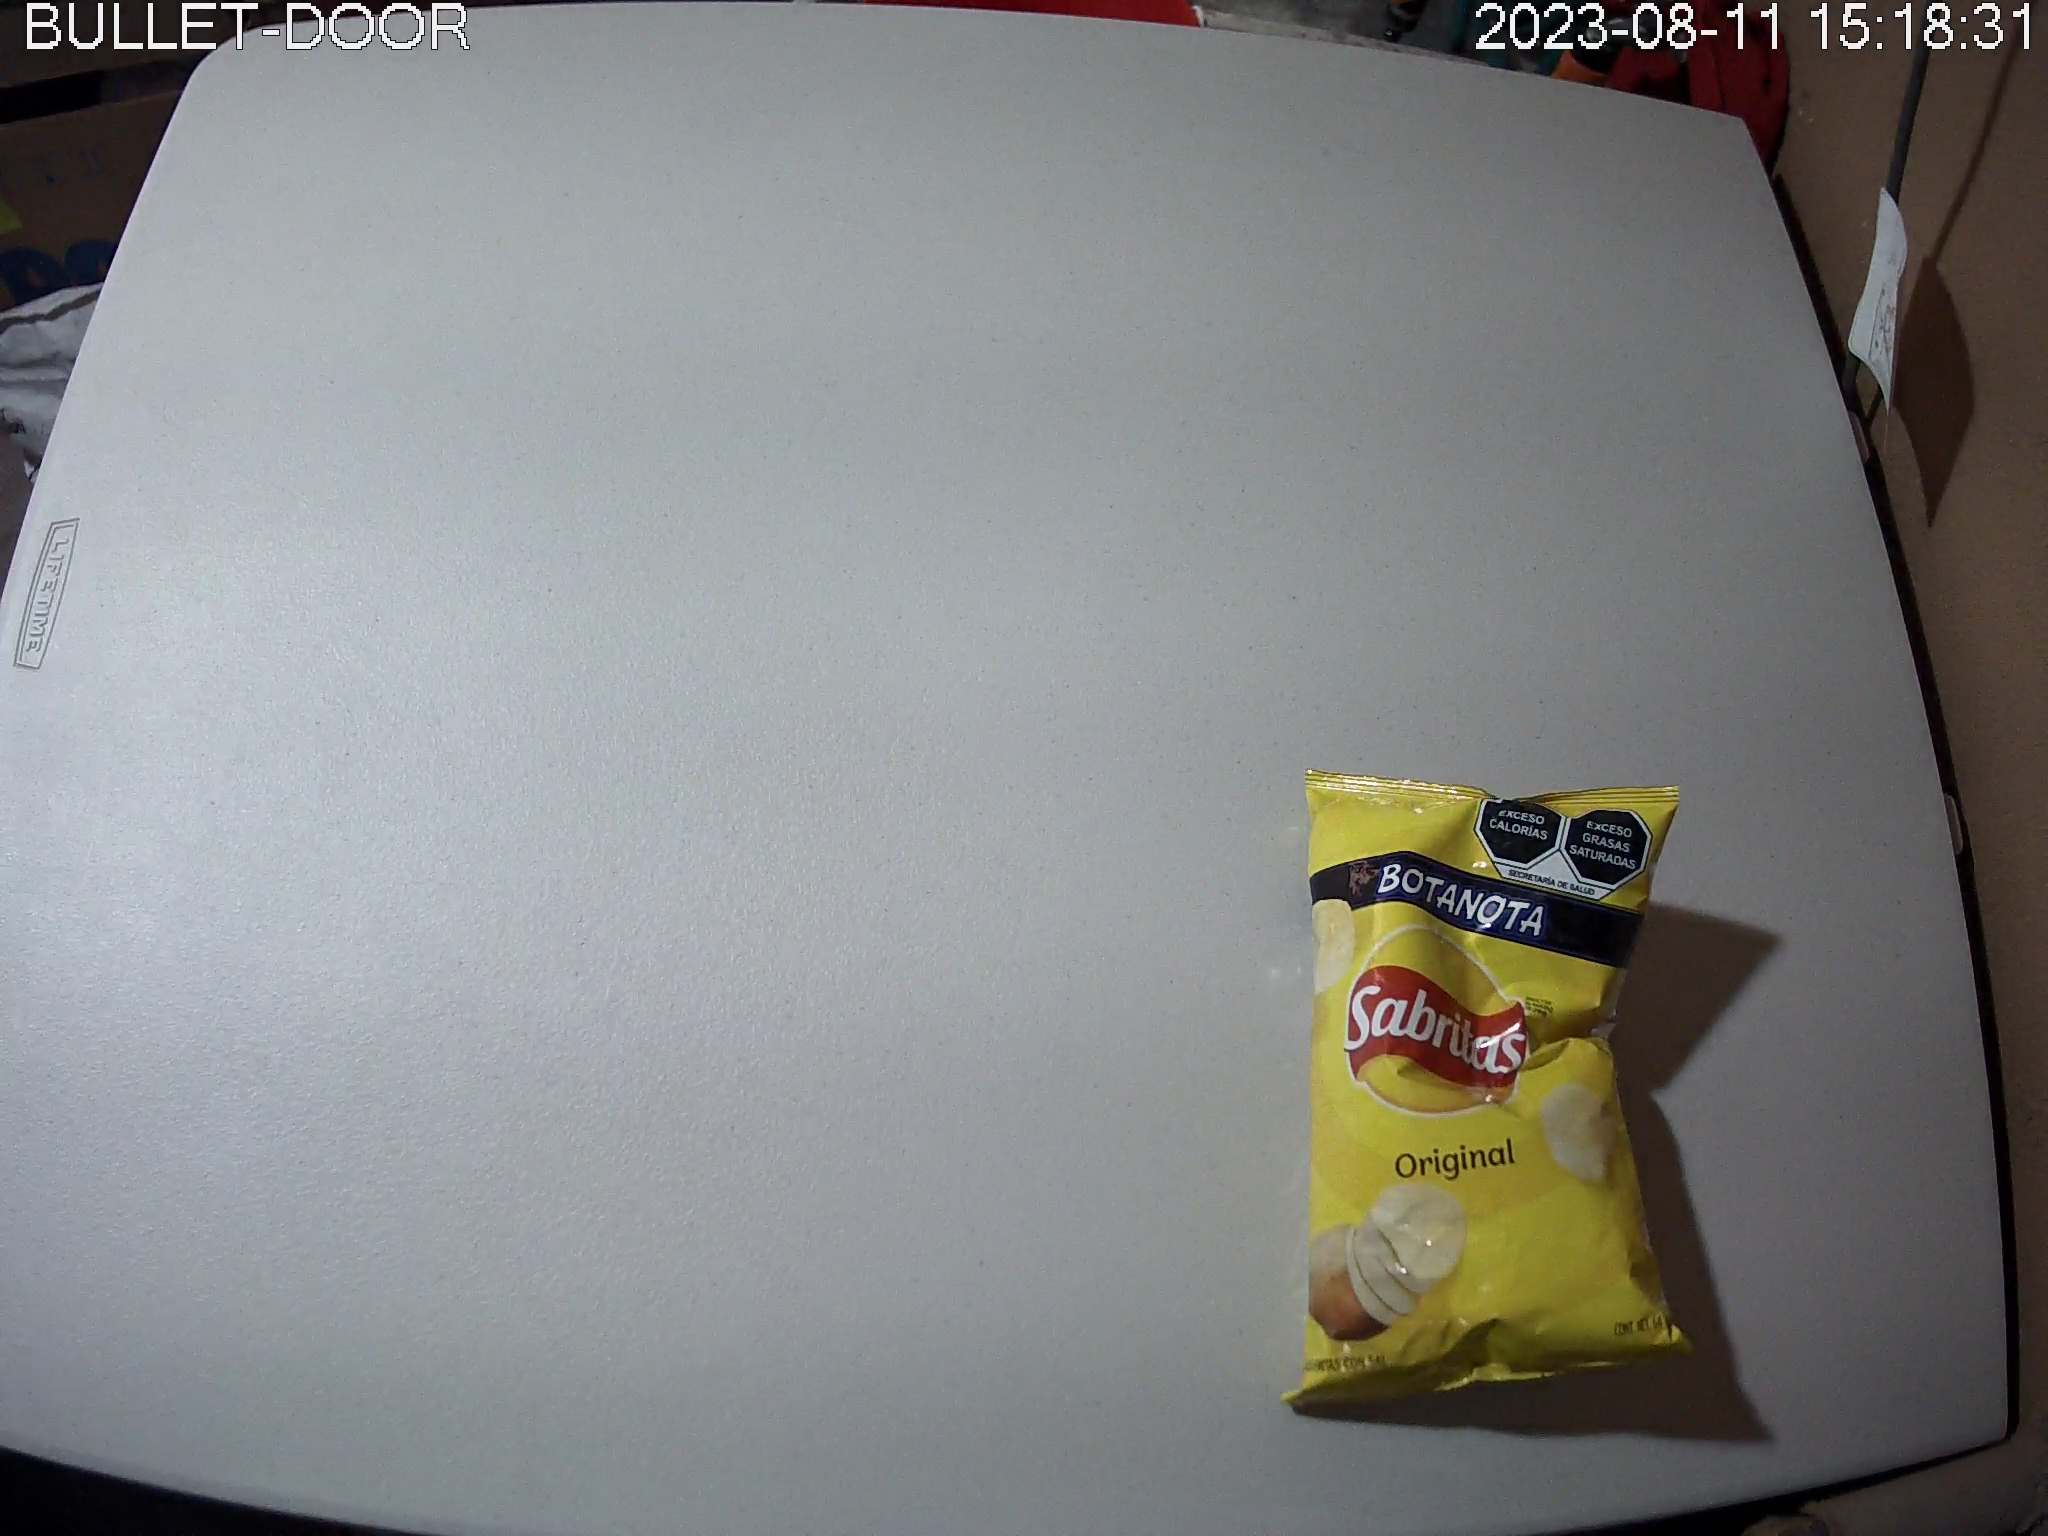Sabritas_64_F: (1279, 766, 1698, 1410)
